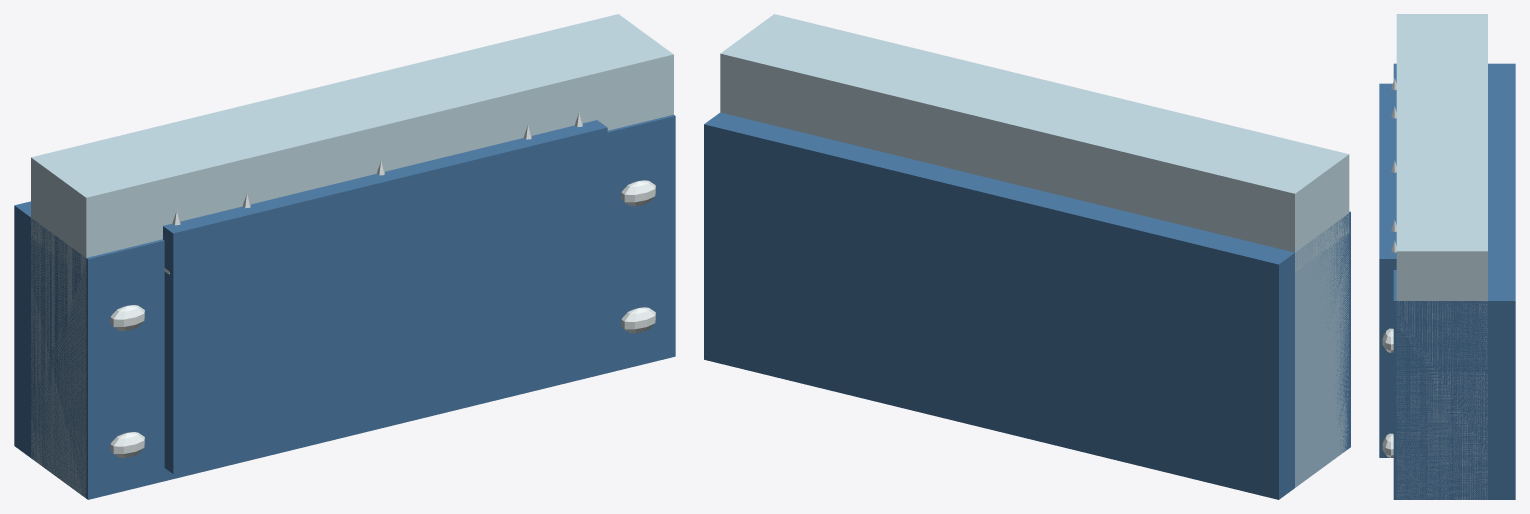
Rendered from cueva_hielo.glb.
3 renders of one model, left to right at view 1: azimuth 30°, elevation 25°; view 2: azimuth 150°, elevation 25°; view 3: azimuth 270°, elevation 25°, orthographic. The views are drawn at different scales.
Parts seen in each view (by area): view 1: cueva_hielo; view 2: cueva_hielo; view 3: cueva_hielo.
Part boxes in pixels (box(x1,y1,x2,y2)): cueva_hielo: box(14, 14, 675, 499); cueva_hielo: box(704, 14, 1350, 499); cueva_hielo: box(1379, 14, 1515, 499).
Size of the model in its own units: 9.2 by 4.5 by 2.23.
